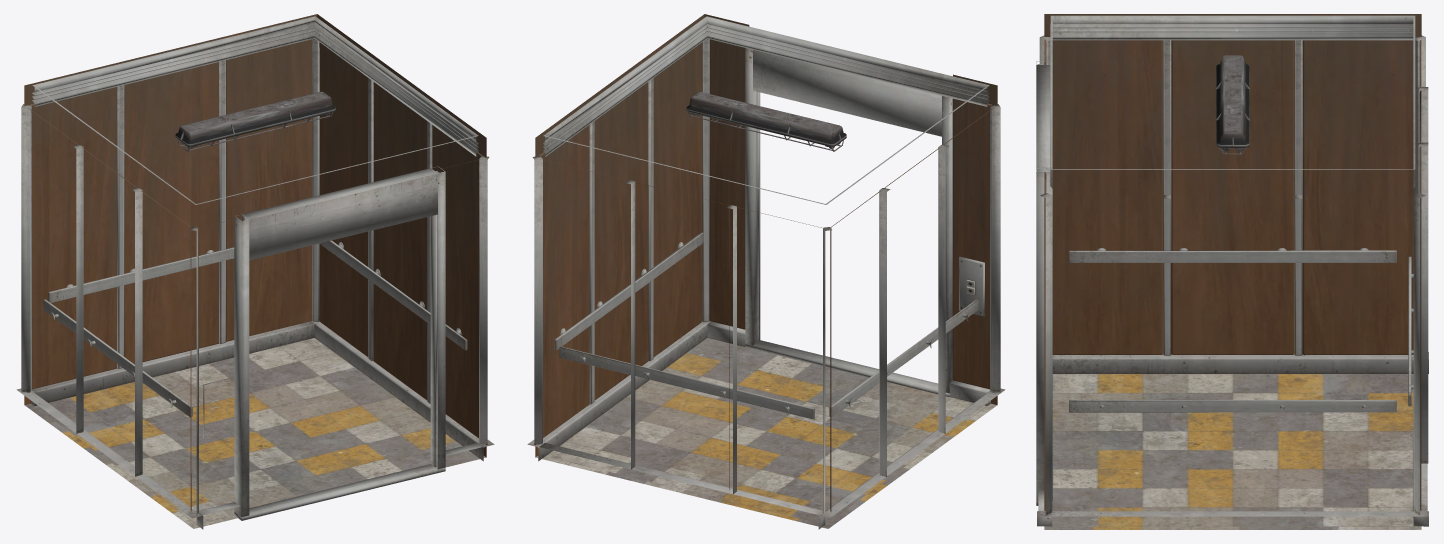
The model's file is elevator_office_lift.static.glb.
3 views of the same model, side by side, from view 1: azimuth 30°, elevation 25°; view 2: azimuth 150°, elevation 25°; view 3: azimuth 270°, elevation 25° (orthographic). The views are drawn at different scales.
Parts seen in each view (by area): view 1: elevator_cabin_office_LOD0, plight.fluorescent_c.on.cold; view 2: elevator_cabin_office_LOD0, plight.fluorescent_c.on.cold; view 3: elevator_cabin_office_LOD0, plight.fluorescent_c.on.cold.
Part boxes in pixels (<box>): elevator_cabin_office_LOD0: <box>16,14,494,529</box>; plight.fluorescent_c.on.cold: <box>175,91,335,151</box>; elevator_cabin_office_LOD0: <box>527,14,1005,529</box>; plight.fluorescent_c.on.cold: <box>686,91,846,151</box>; elevator_cabin_office_LOD0: <box>1036,14,1428,529</box>; plight.fluorescent_c.on.cold: <box>1216,55,1249,154</box>.
Bounding box in the file's own units: 3 × 3.01 × 3.
Materials: 4 (4 with a texture image).
